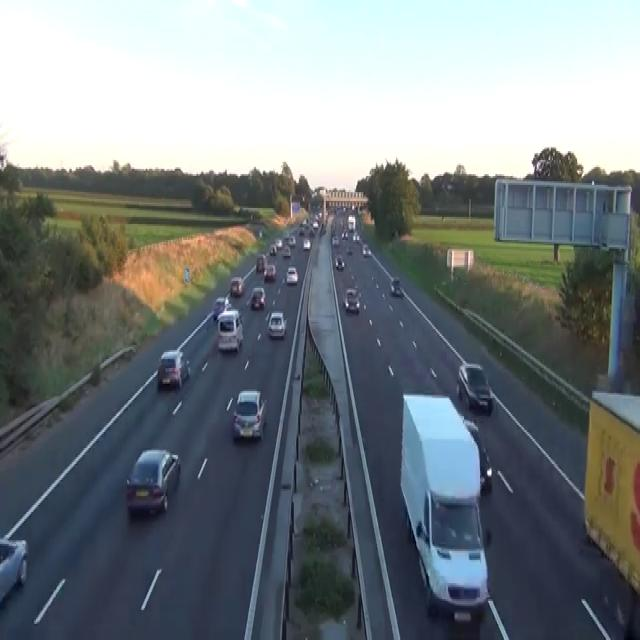Car: (125, 448, 180, 517), (463, 418, 492, 492), (0, 535, 28, 605), (456, 363, 493, 414), (232, 389, 267, 441), (157, 348, 190, 389), (217, 308, 243, 352), (479, 447, 492, 492), (267, 311, 287, 338), (212, 295, 230, 320), (343, 288, 360, 313), (249, 286, 266, 310), (229, 275, 244, 297), (285, 265, 298, 284), (263, 263, 276, 281), (390, 276, 400, 294), (256, 254, 265, 272), (224, 295, 232, 311), (335, 254, 344, 268), (362, 242, 370, 256), (282, 245, 291, 256), (331, 233, 339, 245), (269, 244, 277, 256), (275, 236, 282, 249), (302, 238, 310, 249), (288, 235, 296, 245), (320, 222, 326, 235), (352, 231, 359, 242), (446, 182, 455, 190), (312, 220, 319, 230), (346, 246, 353, 254), (341, 230, 348, 238), (302, 217, 308, 226), (298, 226, 304, 234), (283, 230, 289, 238), (308, 228, 314, 236), (258, 230, 262, 238)
Truck: (399, 391, 490, 622), (583, 390, 639, 596), (347, 215, 355, 231)
